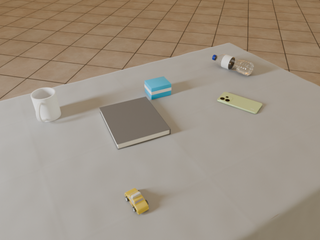book: (100, 97, 171, 149)
bottle: (212, 54, 254, 76)
box: (145, 77, 171, 99)
cup: (31, 88, 61, 122)
phone: (217, 92, 262, 114)
toy_car: (125, 188, 149, 214)
